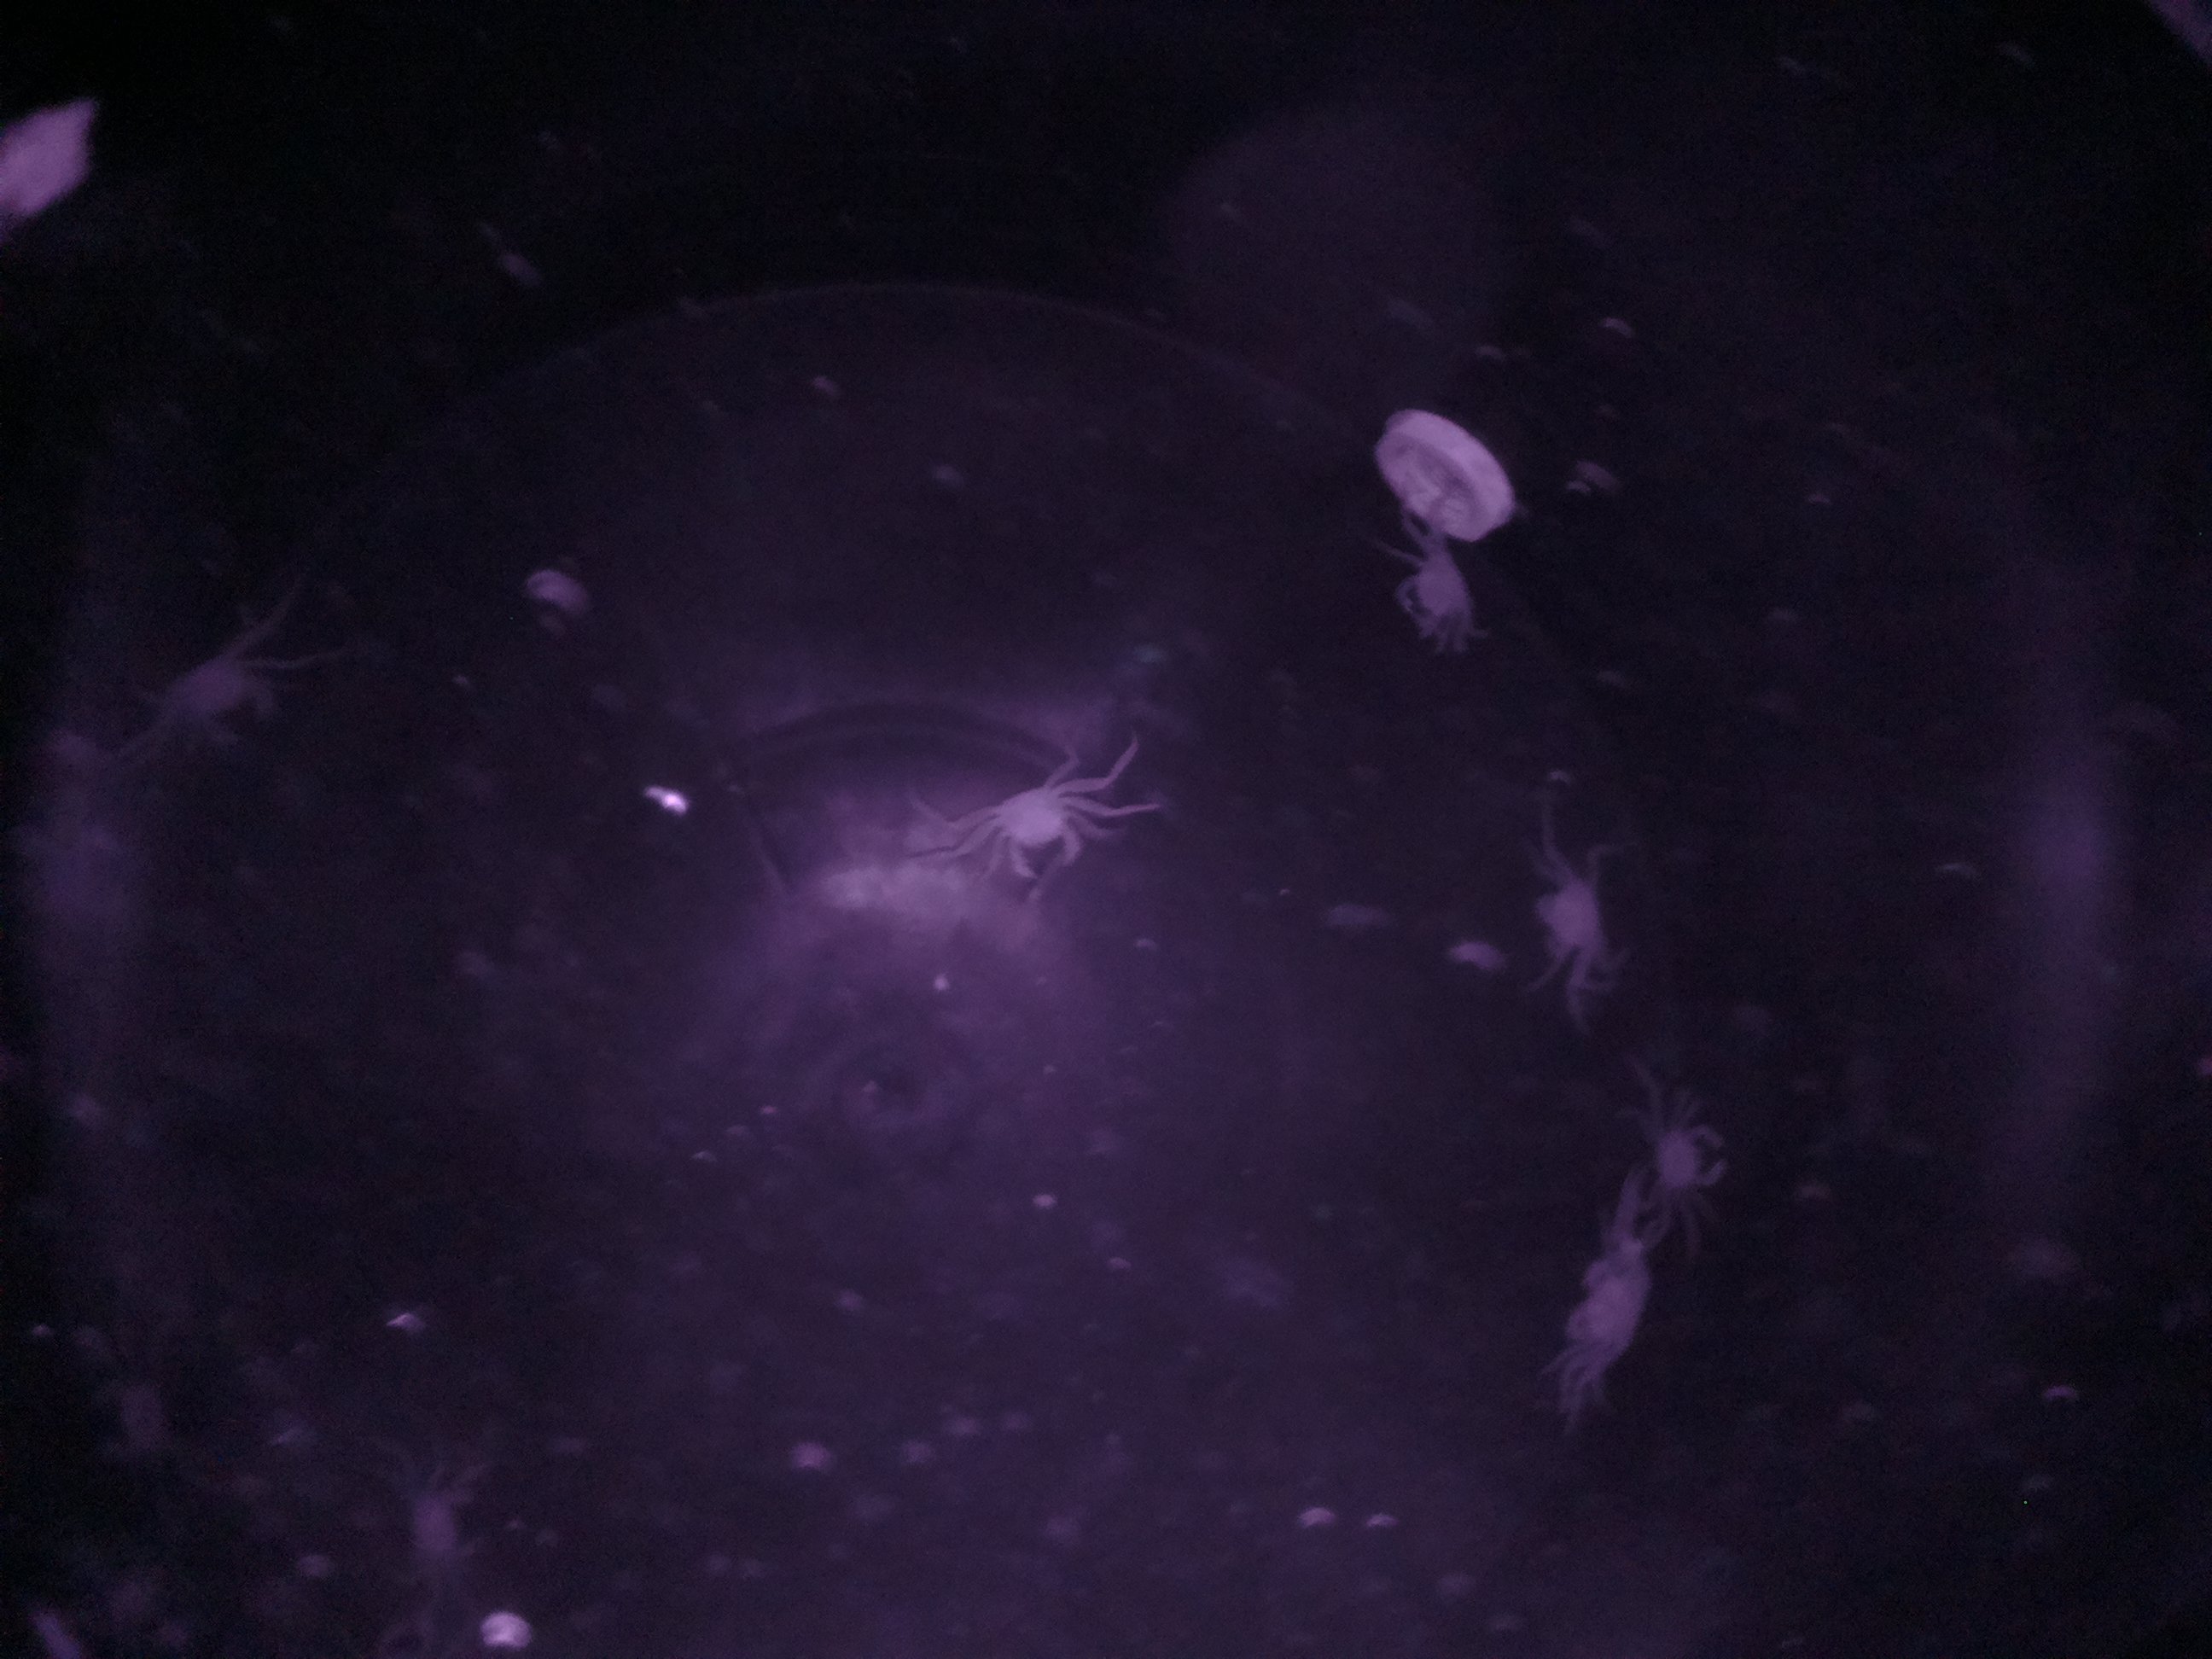Crab: (977, 763, 1097, 904), (1390, 530, 1487, 666)
